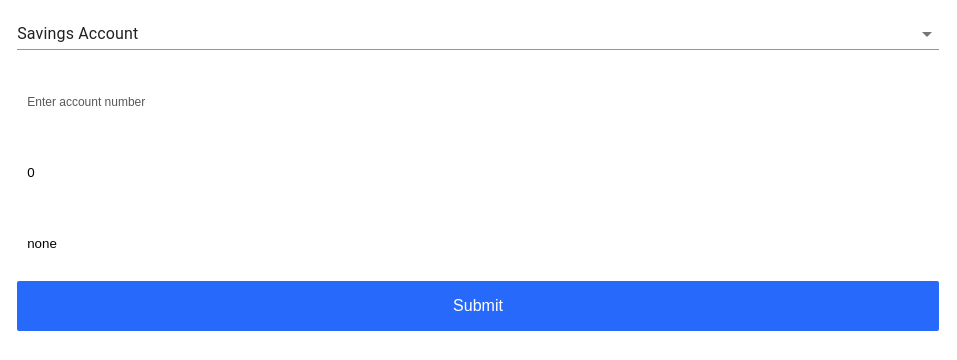
Test: transfer › insufficient balance
In the field named "to_acct_num": (478, 101) [17,81,939,121], type "0"
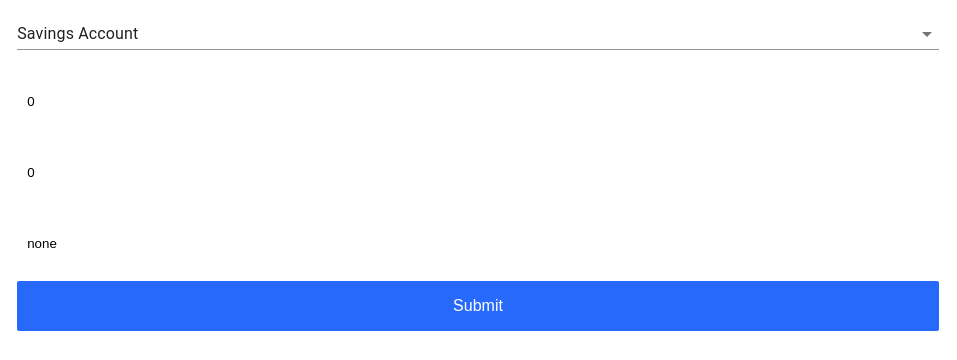
Replace the text in the field named "amount" with "100": (478, 172) [17,152,939,192]
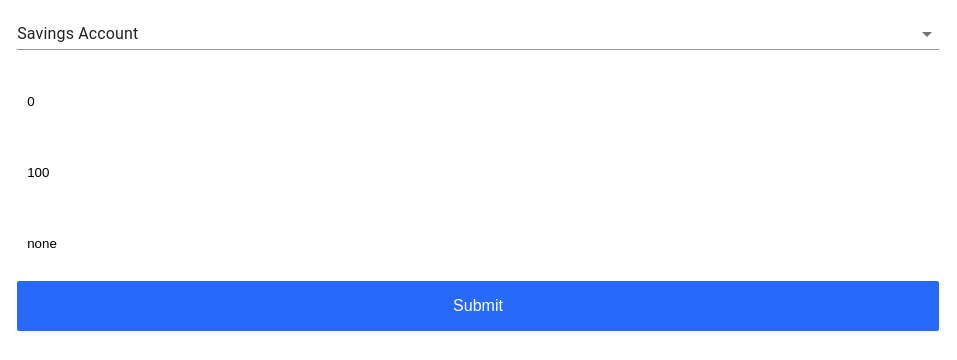
Replace the text in the field named "memo" with "dinner": (478, 243) [17,223,939,263]
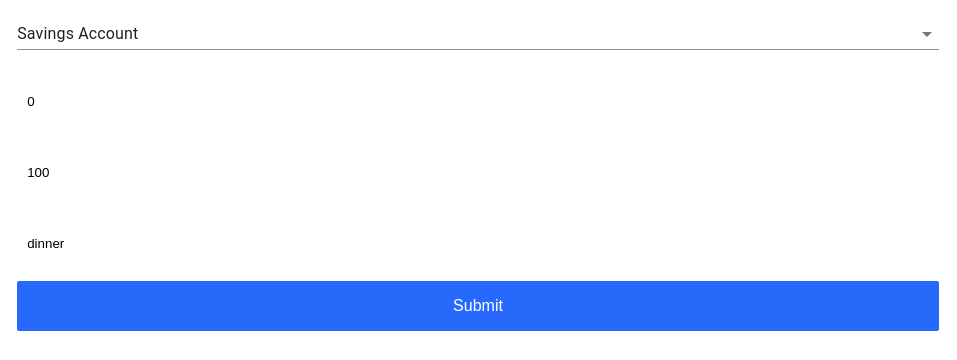
Click the button "Submit": (478, 306) [17,281,939,331]
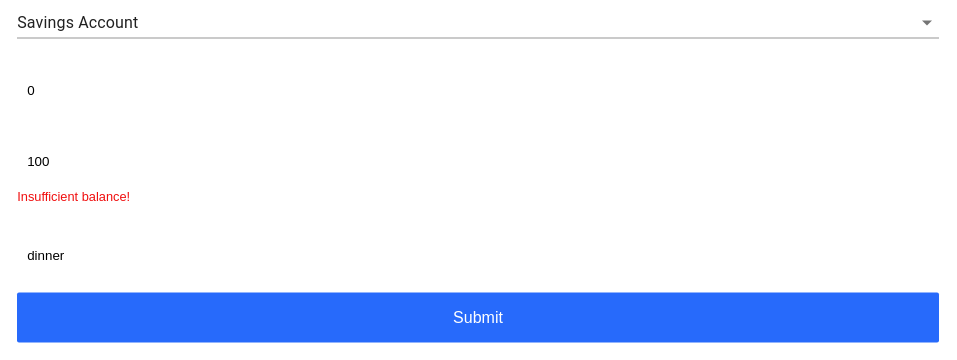
Check: the text named "insufbal" reads "Insufficient balance!", box [17,188,130,204]
